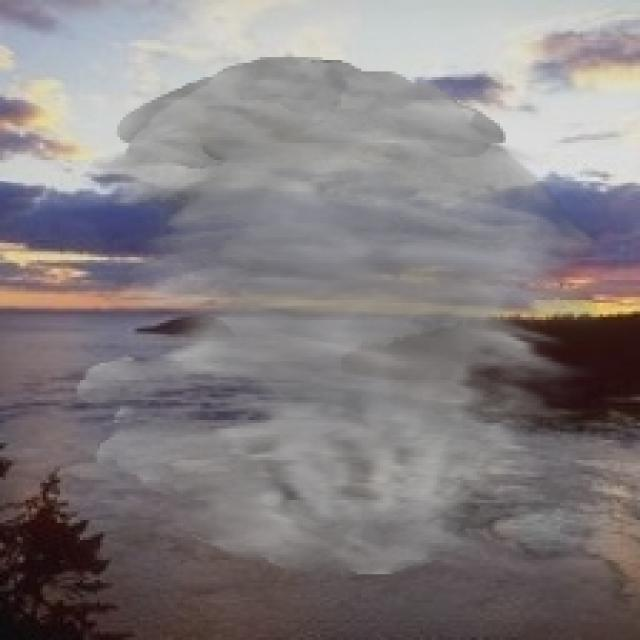Smoke: (74, 57, 603, 577)
